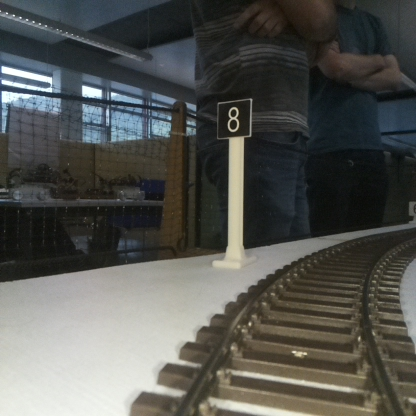black-info-8: (217, 98, 250, 265)
